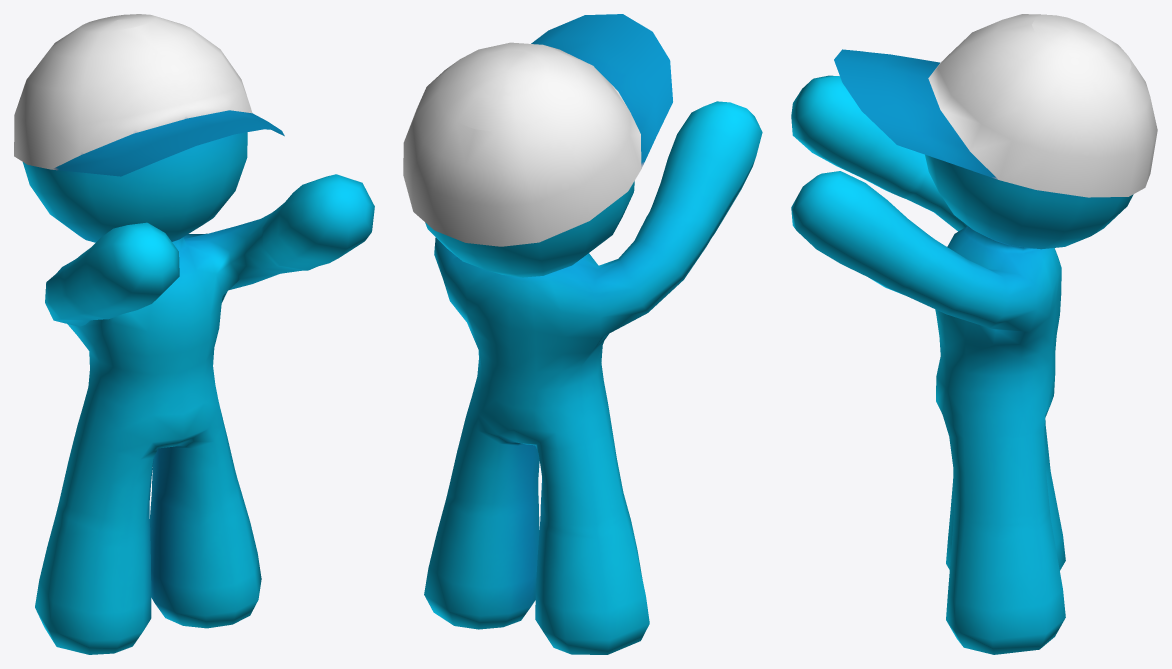
The model's file is Model_Stickman_Demo.fbx.
The picture shows the model from 3 angles, left to right: view 1: azimuth 30°, elevation 25°; view 2: azimuth 150°, elevation 25°; view 3: azimuth 270°, elevation 25°; orthographic projection.
Visible parts, largest first — view 1: Model_Stickman_Demo; view 2: Model_Stickman_Demo; view 3: Model_Stickman_Demo.
Boxes of the visible parts, x1=… form: Model_Stickman_Demo: x1=14, y1=14, x2=374, y2=654; Model_Stickman_Demo: x1=403, y1=14, x2=762, y2=654; Model_Stickman_Demo: x1=791, y1=14, x2=1157, y2=654.
Bounding box in the file's own units: 120 × 253 × 143.
